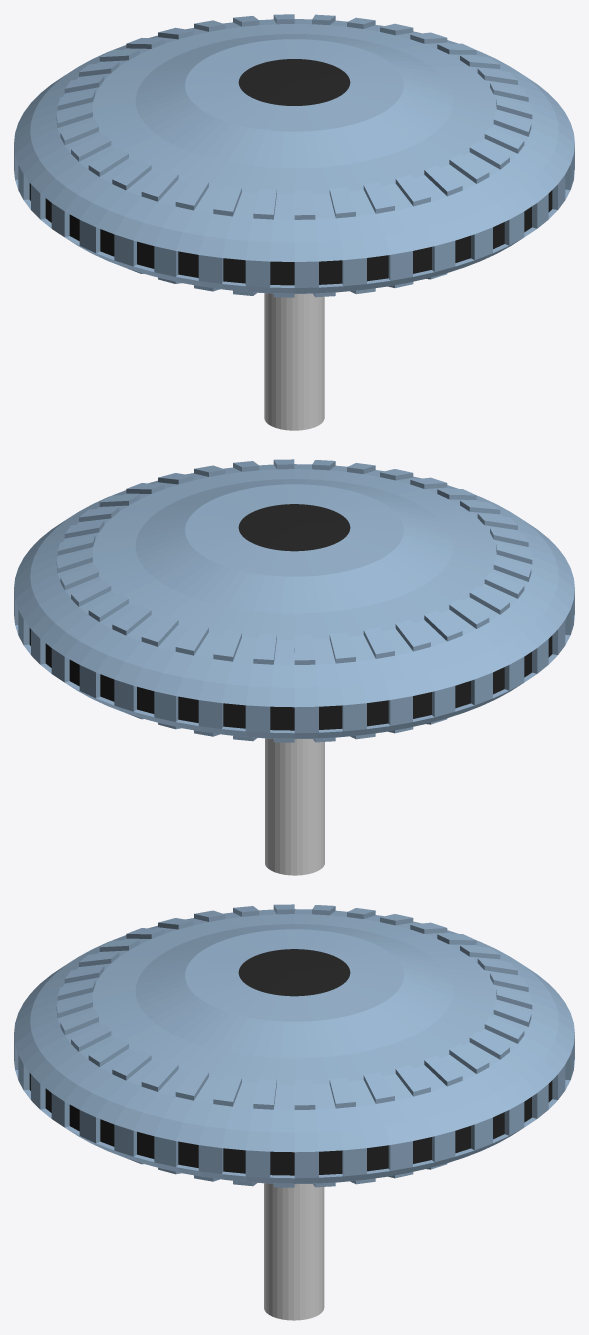
File: spaceship.fbx
3 renders of one model, top to bottom at view 1: azimuth 30°, elevation 25°; view 2: azimuth 150°, elevation 25°; view 3: azimuth 270°, elevation 25°, orthographic.
Visible parts, largest first — view 1: Sphere, Cylinder; view 2: Sphere, Cylinder; view 3: Sphere, Cylinder.
Part boxes in pixels (x1,y1,x2,y2): Sphere: (14,14,574,297); Cylinder: (264,293,324,430); Sphere: (14,459,574,742); Cylinder: (265,738,324,875); Sphere: (14,904,574,1187); Cylinder: (264,1183,324,1320).
Size of the model in its own units: 196 by 130 by 196.
